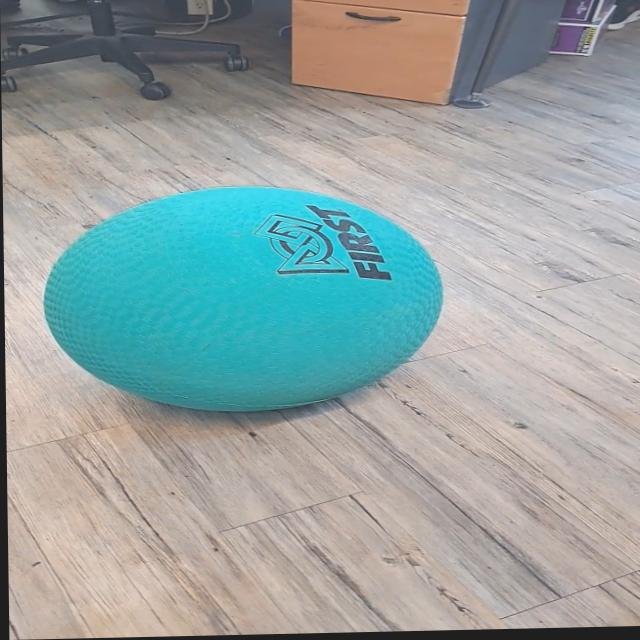ALGAE: (39, 180, 447, 417)
